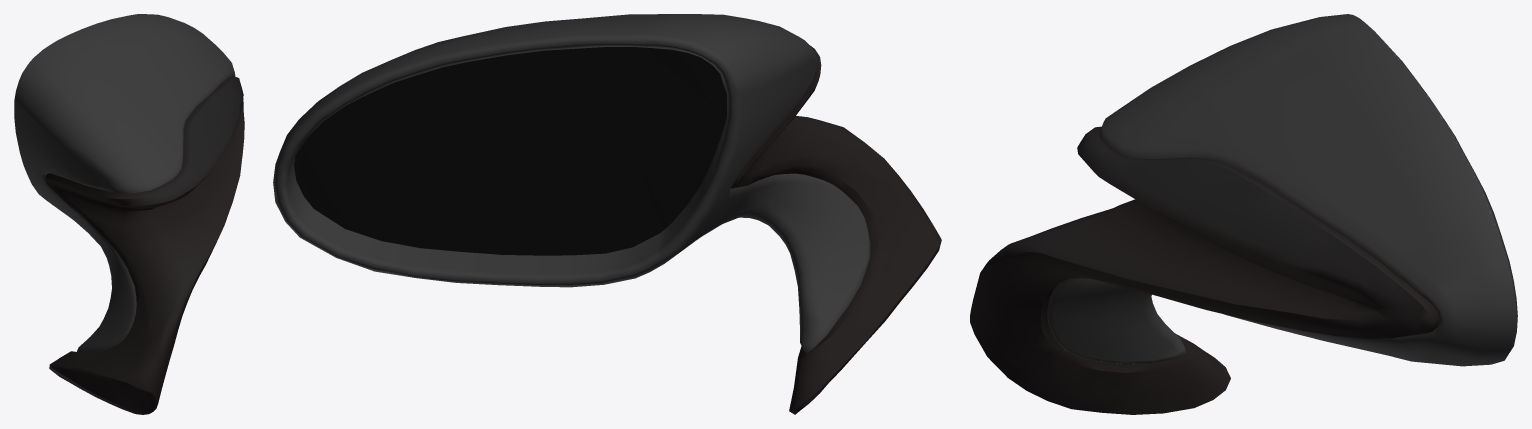
The model's file is sidemirror_l.glb.
The picture shows the model from 3 angles, left to right: view 1: azimuth 30°, elevation 25°; view 2: azimuth 150°, elevation 25°; view 3: azimuth 270°, elevation 25°; orthographic projection. The views are drawn at different scales.
Parts seen in each view (by area): view 1: body:Kit0_Paint_Geo_lodABody_lodA_McLaren_Elva_2021Paint_Ma., Kit0_Coloured_Geo_lodA_McLaren_Elva_2021Coloured_Material_0.; view 2: Kit0_Coloured_Geo_lodA_McLaren_Elva_2021Coloured_Material_0., body:Kit0_Paint_Geo_lodABody_lodA_McLaren_Elva_2021Paint_Ma. (×2); view 3: body:Kit0_Paint_Geo_lodABody_lodA_McLaren_Elva_2021Paint_Ma. (×2), Kit0_Coloured_Geo_lodA_McLaren_Elva_2021Coloured_Material_0..
Boxes of the visible parts, left/top/right/bottom form: body:Kit0_Paint_Geo_lodABody_lodA_McLaren_Elva_2021Paint_Ma.: left=14, top=14, right=235, bottom=352; Kit0_Coloured_Geo_lodA_McLaren_Elva_2021Coloured_Material_0.: left=45, top=76, right=244, bottom=414; Kit0_Coloured_Geo_lodA_McLaren_Elva_2021Coloured_Material_0.: left=294, top=34, right=941, bottom=414; body:Kit0_Paint_Geo_lodABody_lodA_McLaren_Elva_2021Paint_Ma. (×2): left=273, top=14, right=870, bottom=353; body:Kit0_Paint_Geo_lodABody_lodA_McLaren_Elva_2021Paint_Ma. (×2): left=1047, top=14, right=1517, bottom=366; Kit0_Coloured_Geo_lodA_McLaren_Elva_2021Coloured_Material_0.: left=970, top=126, right=1440, bottom=414.
Bounding box in the file's own units: 0.00208 × 0.00207 × 0.00253.
Materials: 2 (1 with a texture image).
